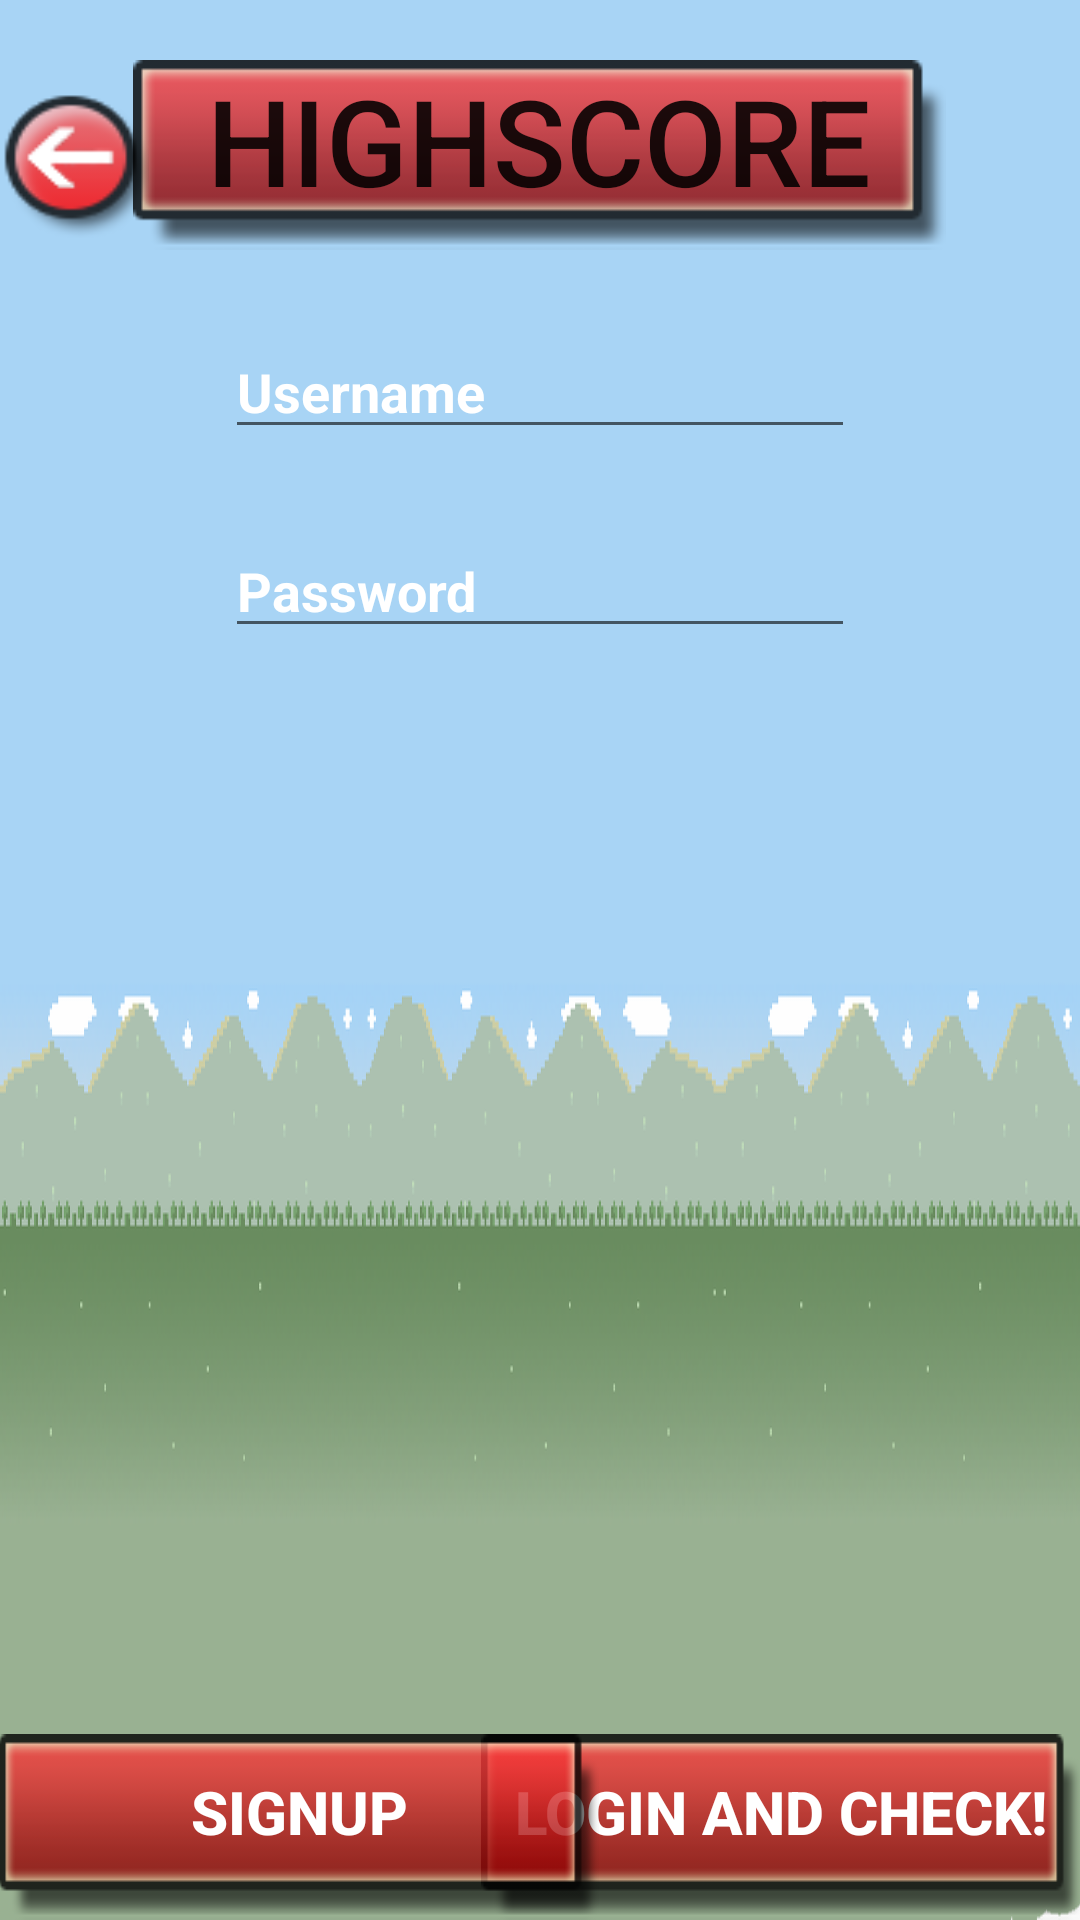

Icon bounding boxes for this 1080 x 1920 phone screenshot, format rect(x1, y1, x2, y2):
backbutton: rect(4, 90, 149, 231)
